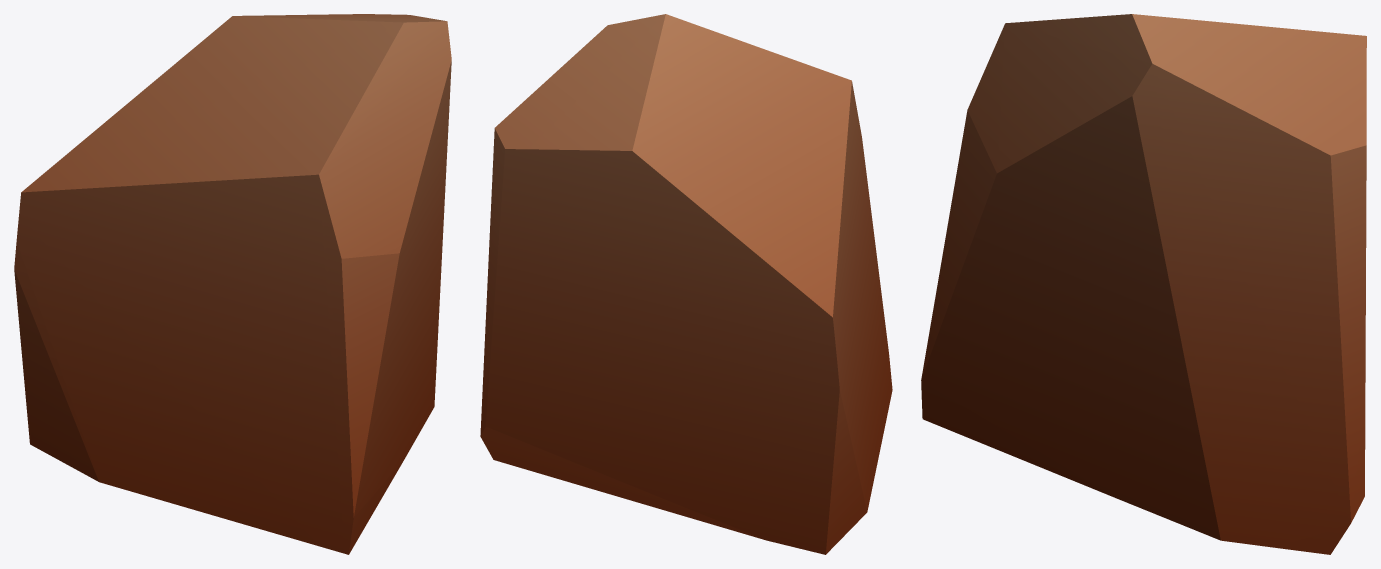
File: rock02.fbx
3 views of the same model, side by side, from view 1: azimuth 30°, elevation 25°; view 2: azimuth 150°, elevation 25°; view 3: azimuth 270°, elevation 25° (orthographic). The views are drawn at different scales.
Parts seen in each view (by area): view 1: Rock02; view 2: Rock02; view 3: Rock02.
Part boxes in pixels (box(x1,y1,x2,y2)): Rock02: box(14, 14, 451, 554); Rock02: box(480, 14, 892, 554); Rock02: box(921, 14, 1366, 554).
Size of the model in its own units: 174 by 185 by 153.
